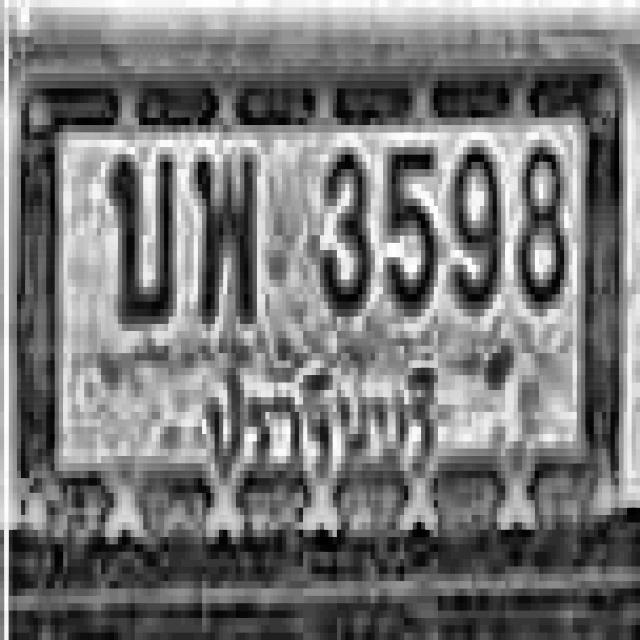license-plate: (13, 56, 622, 533)
